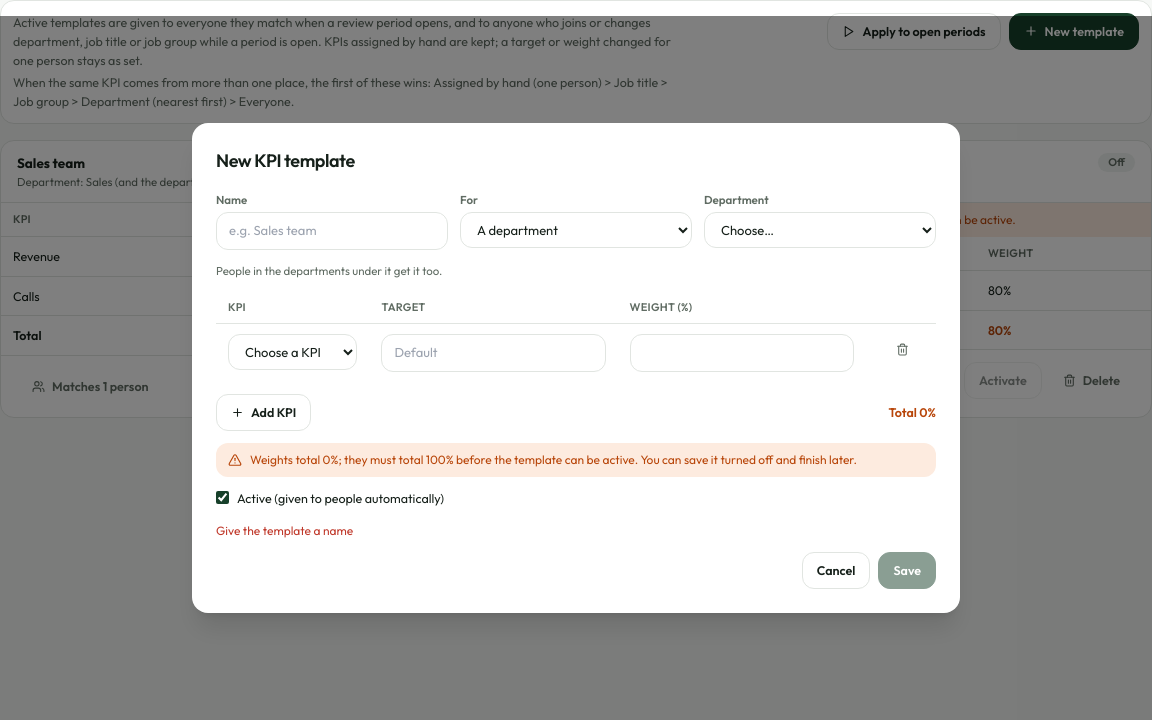
Test: KPI templates › creates a template; the total must reach 100 before it can be saved active
Earlier steps of the test are not shown.
Later steps or results of the test are not shown.
Type "Reps" into the field labelled "Name" at (332, 231), box [216,212,448,250]
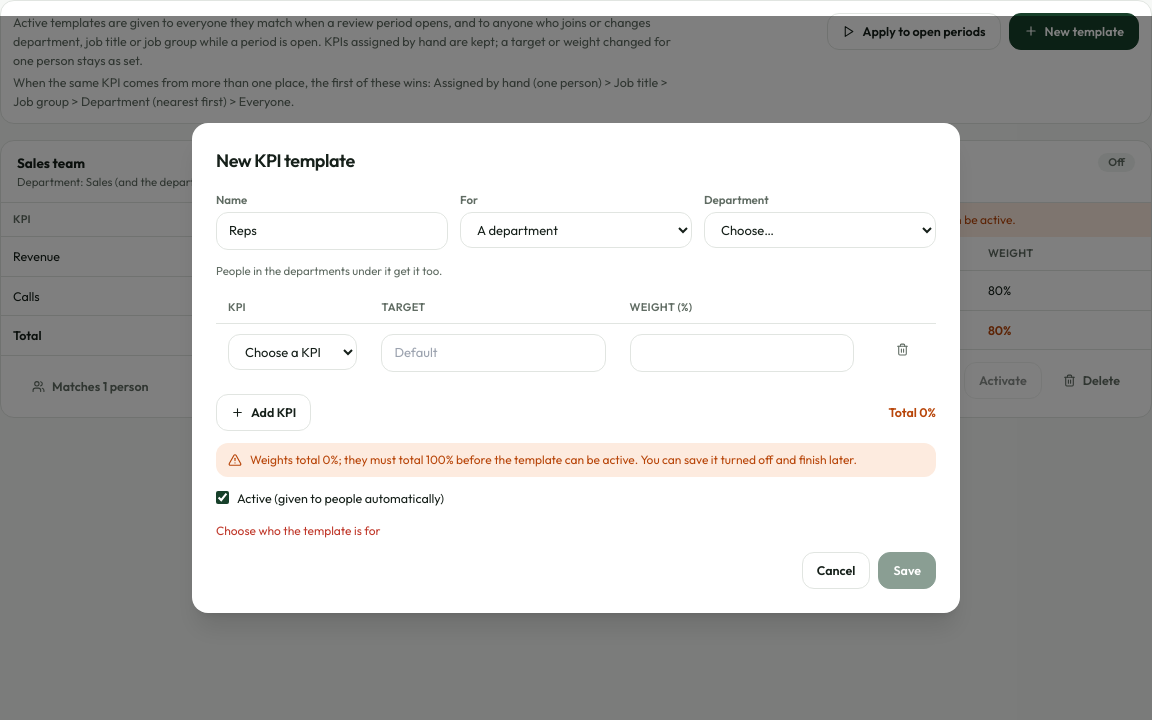
Select "A job title" in the dropdown labelled "For" at (576, 230), box [460,212,692,248]
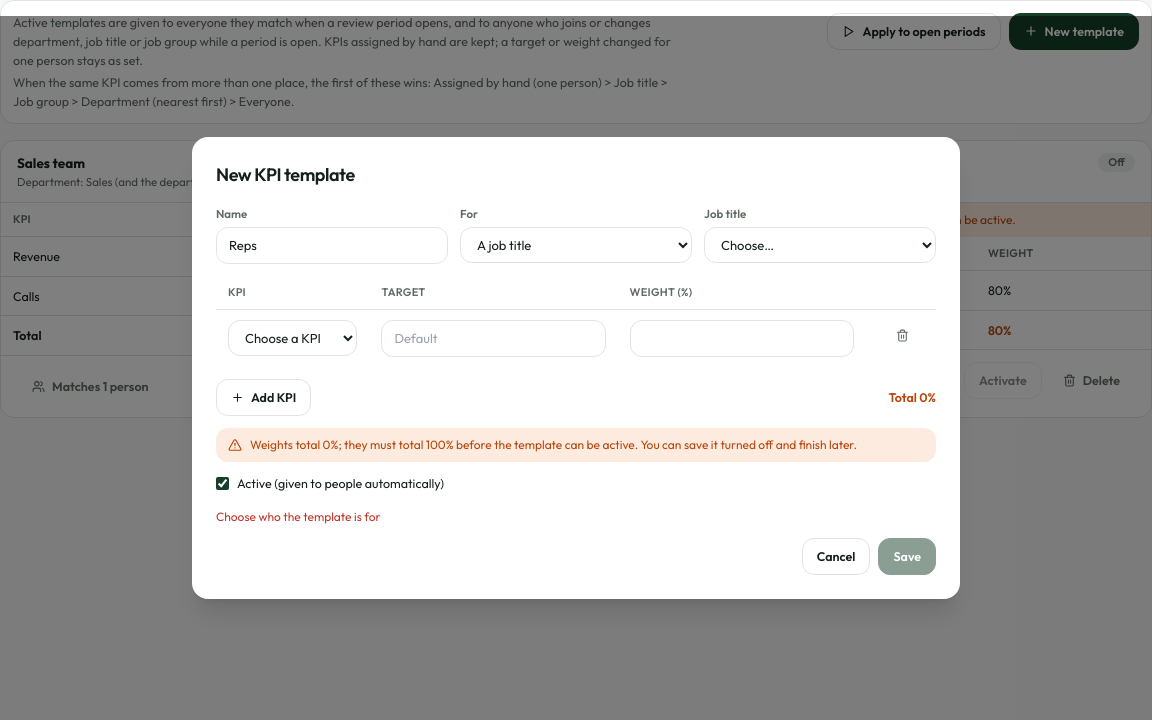
Select "Sales Rep" in the dropdown labelled "Job title" at (820, 245), box [704,227,936,263]
Select "Revenue" in the dropdown named "KPI 1" at (293, 338), box [228,320,358,356]
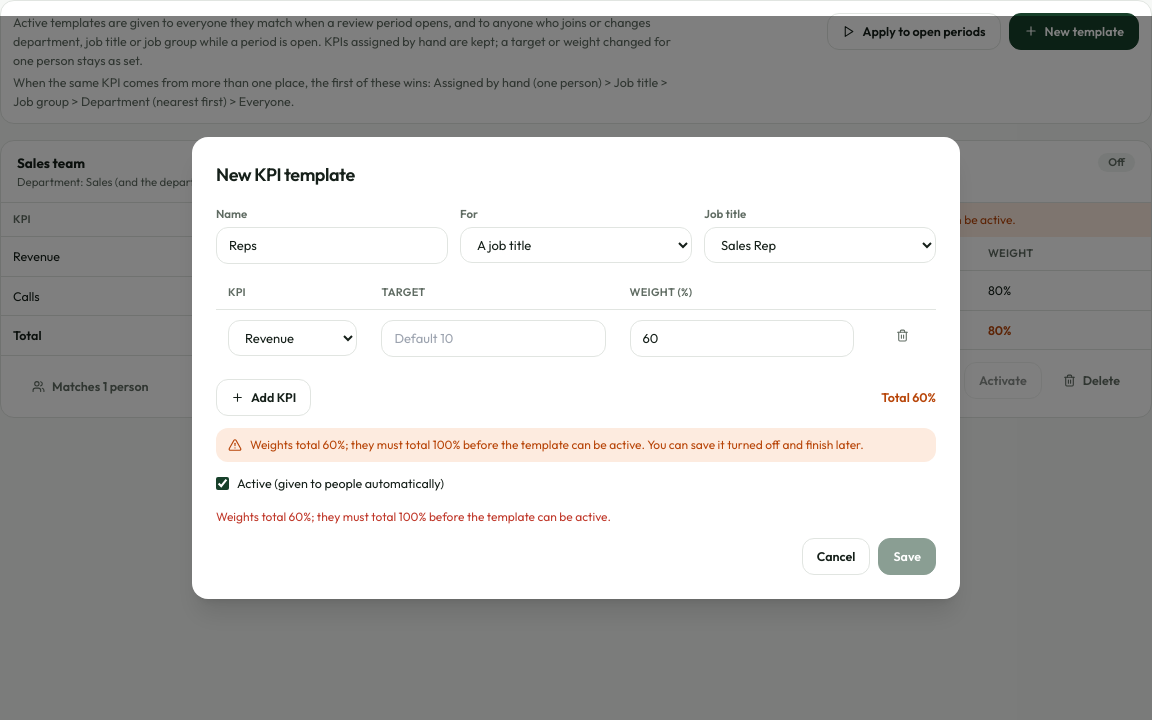
Expected: the message shows "must total 100%", [250,437,645,452]
Expected: the field named "Weight 1" holds "60", [630,320,854,357]
Expected: the text with test id "template-total" reads "Total 60%", [881,388,936,407]
Click the button "Add KPI" at (264, 398), box [216,379,311,416]
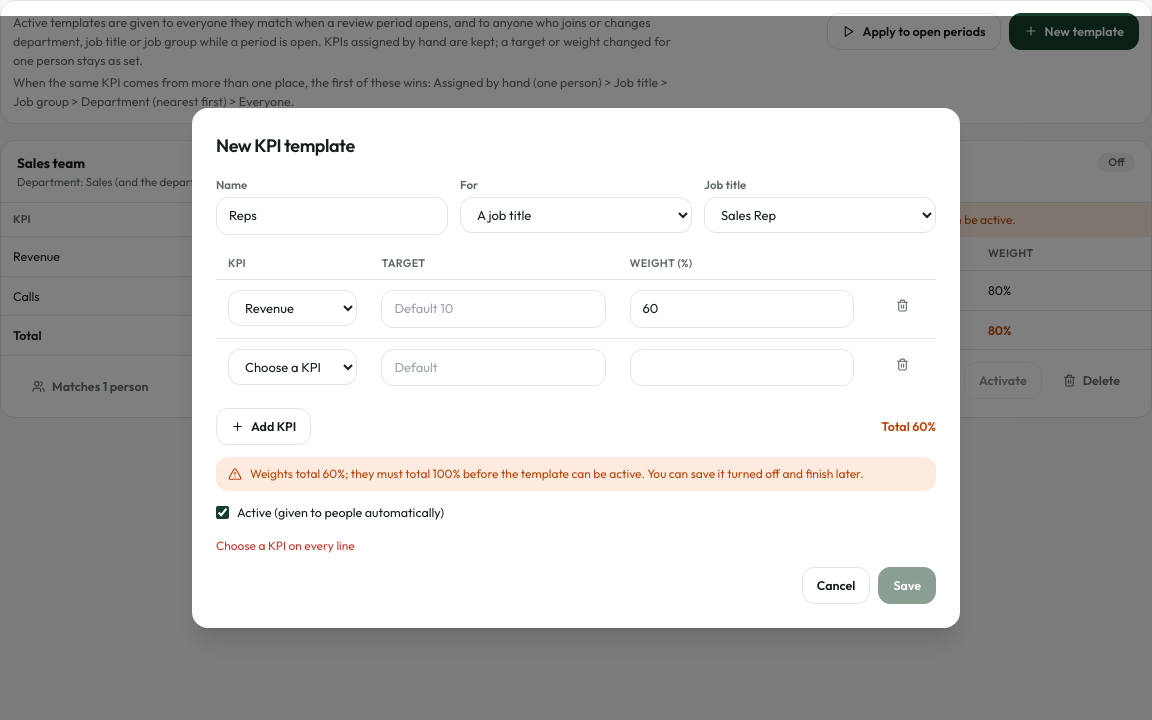
Select "Calls" in the dropdown named "KPI 2" at (293, 367), box [228,349,358,385]
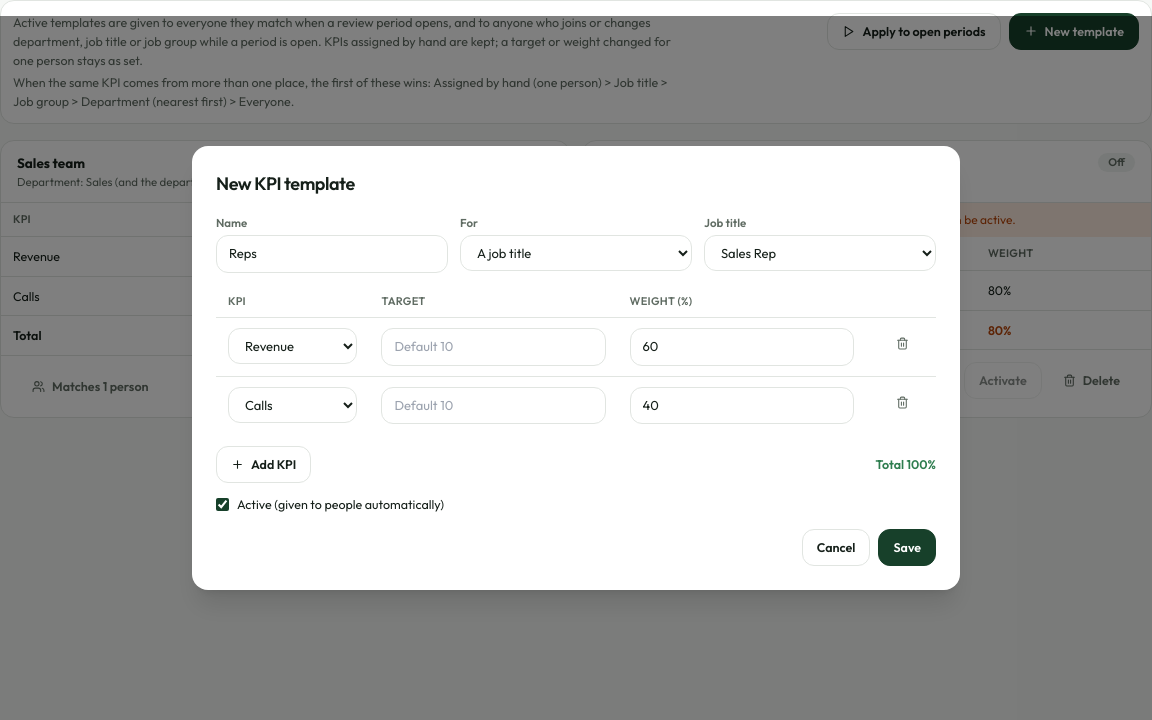
Type "25" into the field named "Target 2" at (494, 406), box [382,387,606,424]
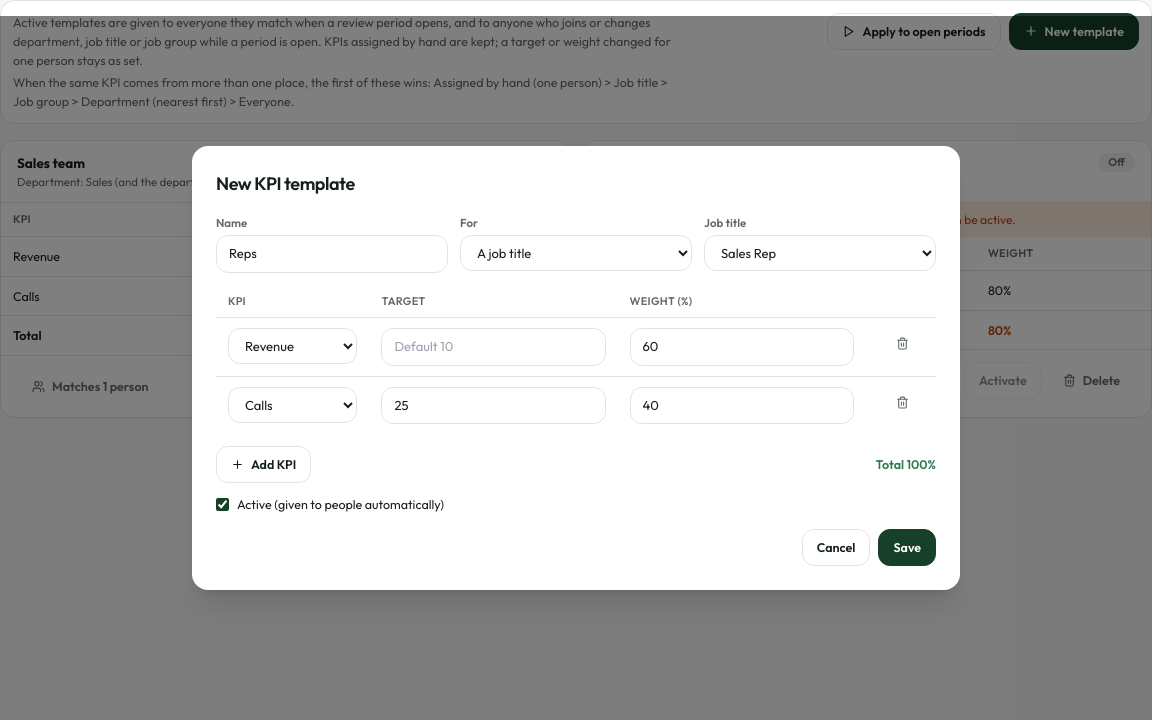
Expected: the text with test id "template-total" reads "Total 100%", [876,455,936,474]
